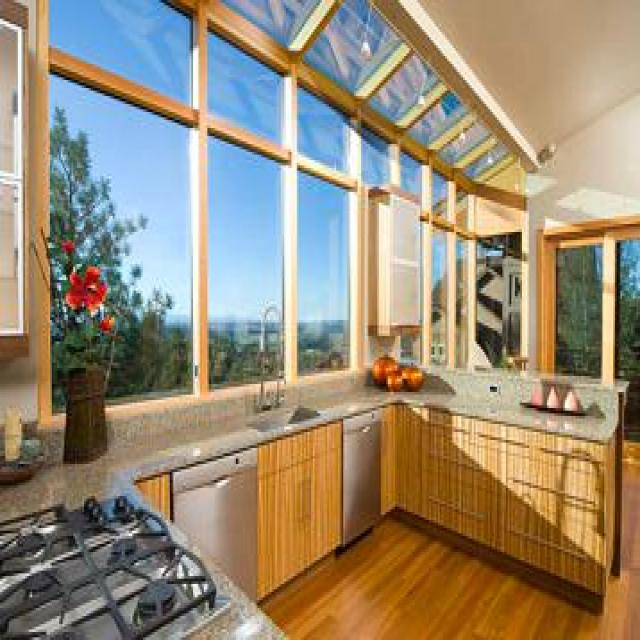dishwasher: (172, 446, 256, 638), (340, 405, 379, 544)
